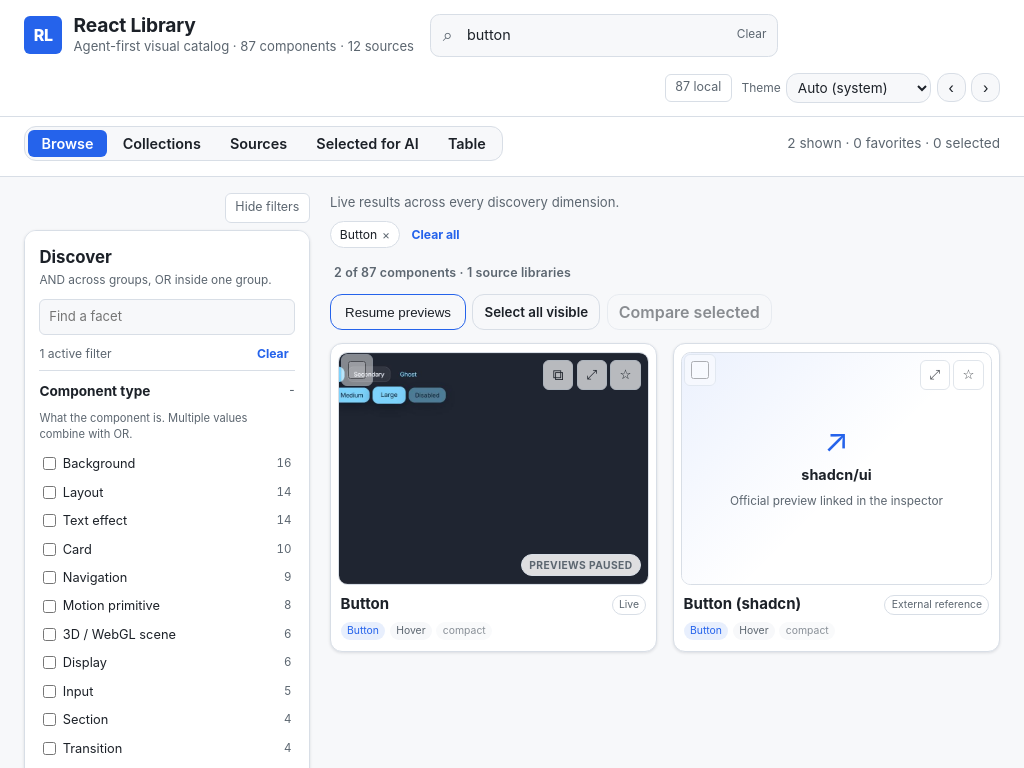
Test: App deep links and overlays › hydrates browse filters and preserves them through the inspector
expect the search field named "Search the entire catalog" holds "button": met, box [430,14,778,57]
Click the button with aria-label "Open details for Button": (365, 604) [341,592,604,618]
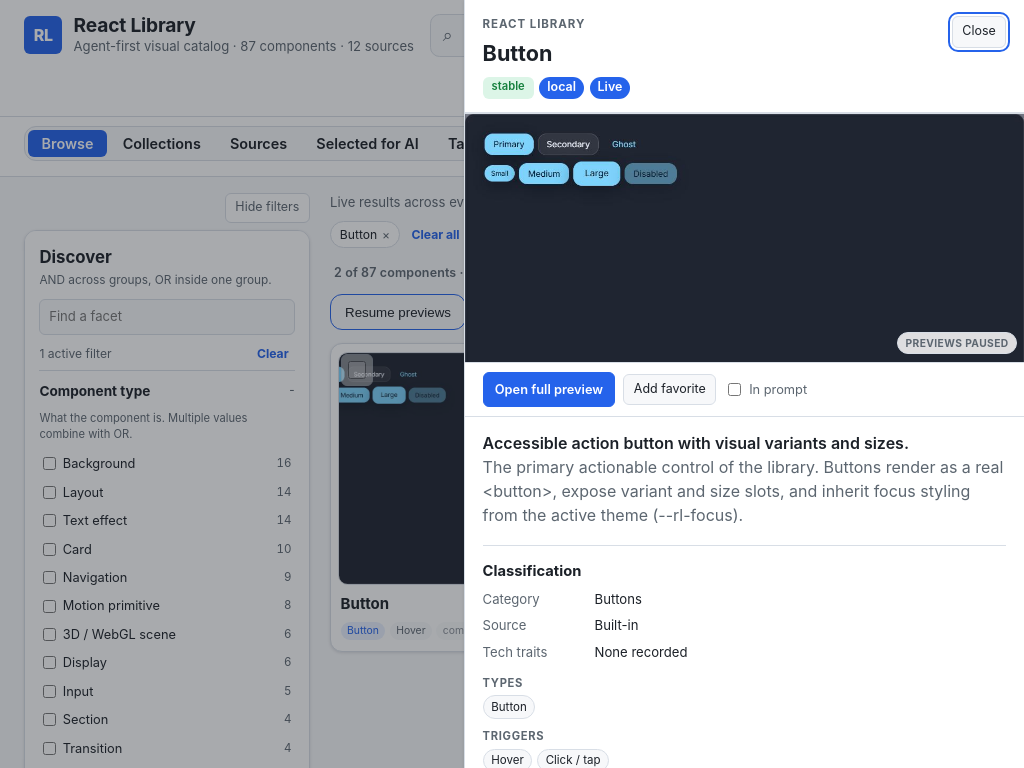
expect the dialog "Button" is shown: met, box [464,0,1023,767]
Click the button "Close": (979, 32) [952,16,1006,48]
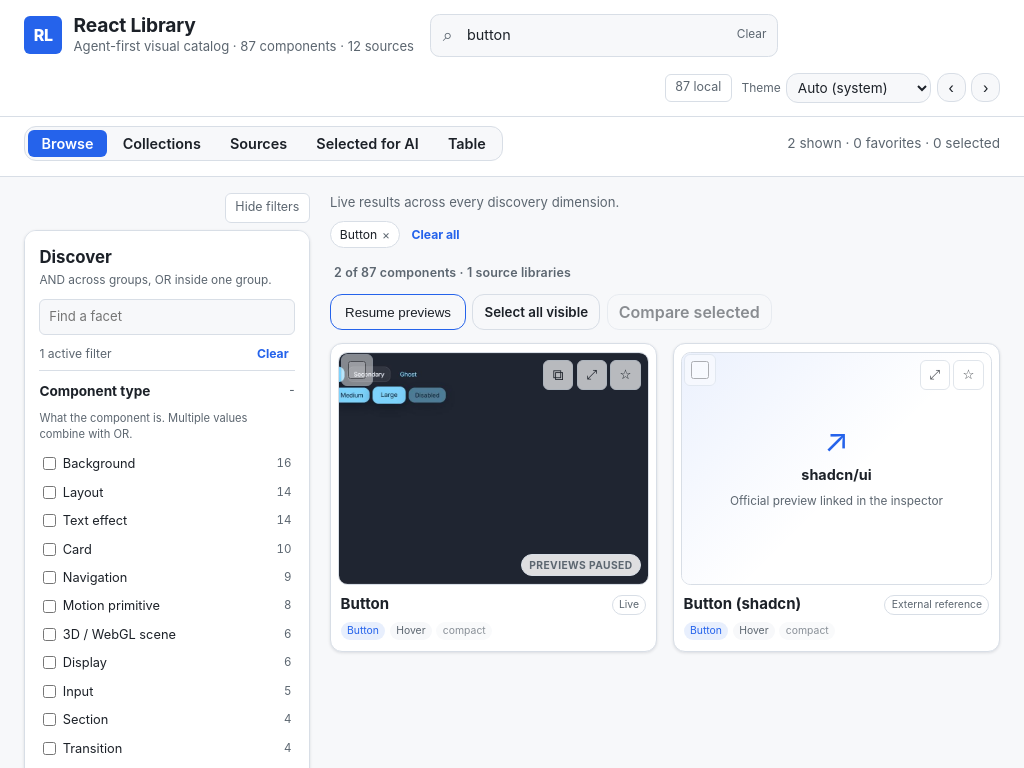
expect the message shows "2 of 87 components": met, box [334,264,456,280]
expect the button "Close" is gone: met
